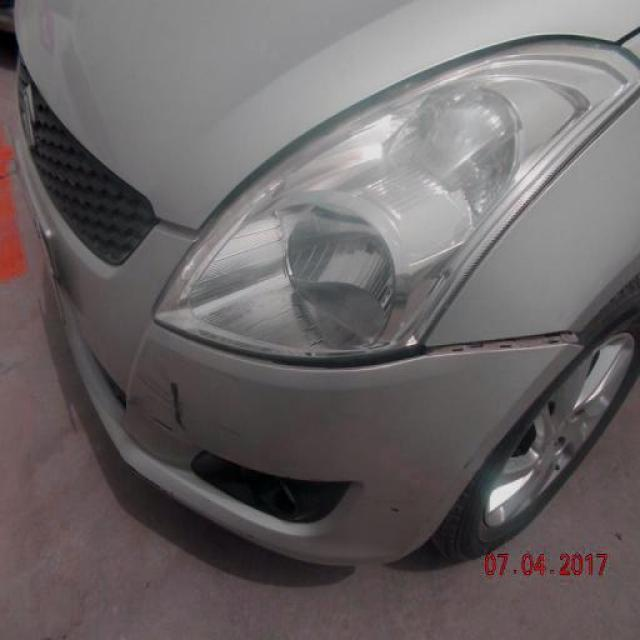Car-Damage: (205, 322, 587, 377), (169, 373, 188, 435), (154, 415, 167, 438)
